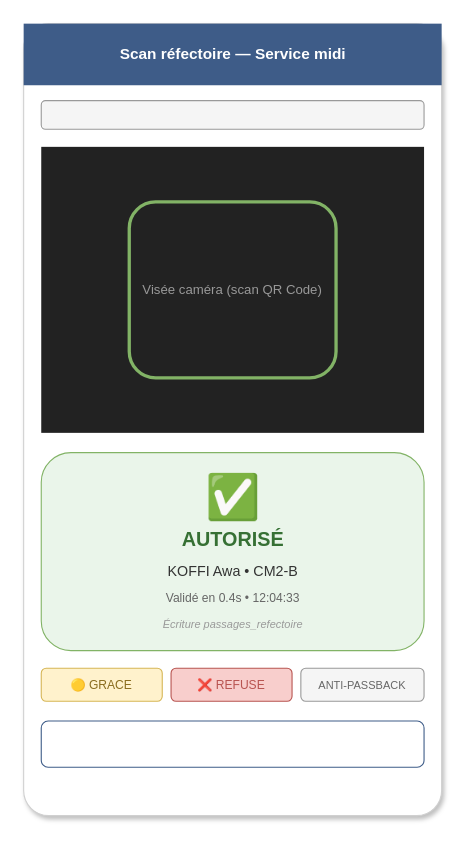
This 468x843 diagram has some shape labels left out. The centre of each missing label's shape, as x and y in pixels:
"Mode hors-ligne — cache chiffré (TTL 24h)" goes at [232,114].
"Validation manuelle (motif obligatoire)" goes at [232,743].
